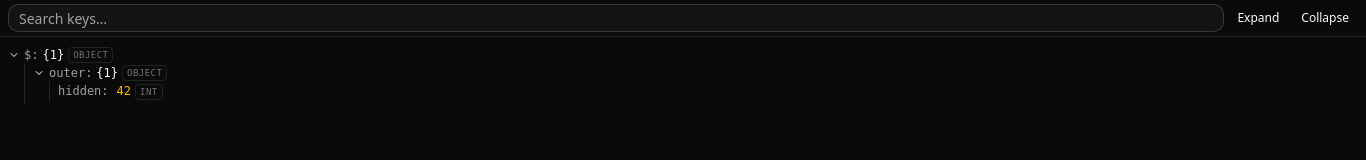
JsonTree › composite nodes toggle open on click
expect the text "hidden:" is shown: met, box [58,83,109,99]
Click the text "outer:" at {"x": 71, "y": 73}, box [49,65,92,81]
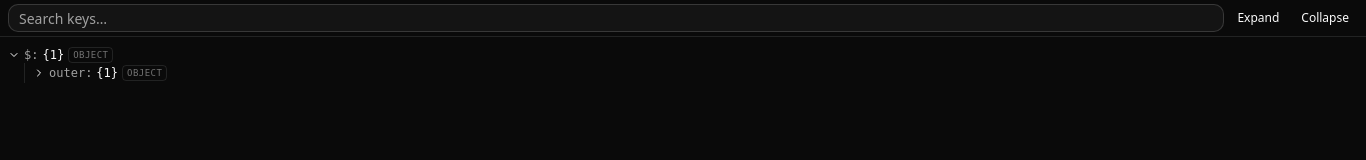
expect the text "hidden:" is gone: met
// Re-expand and `hidden` reappears.
Click the text "outer:" at {"x": 71, "y": 73}, box [49,65,92,81]
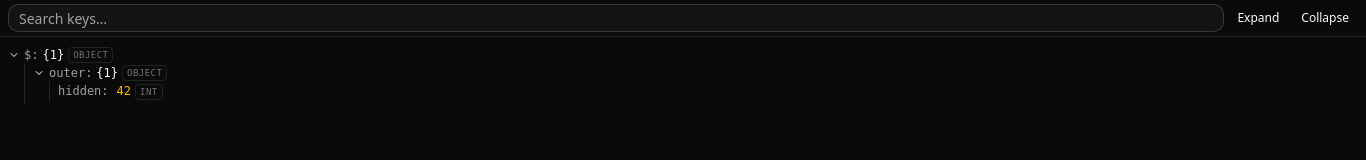
expect the text "hidden:" is shown: met, box [58,83,109,99]
